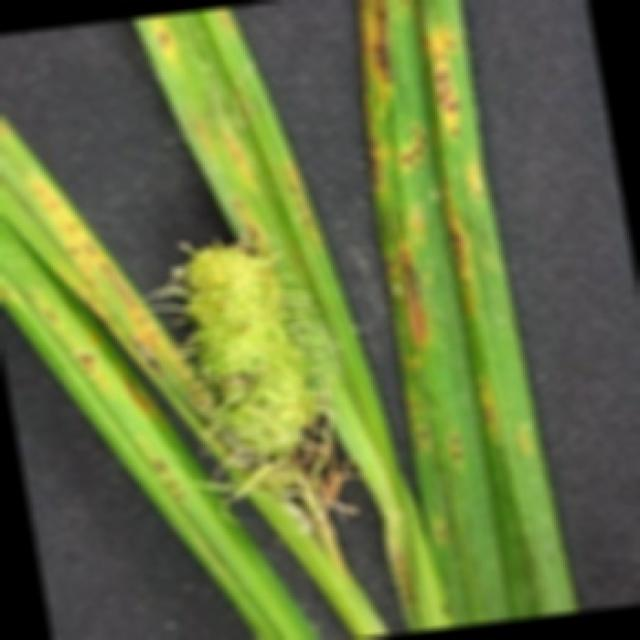Elderberry_rust: (144, 234, 360, 564)
